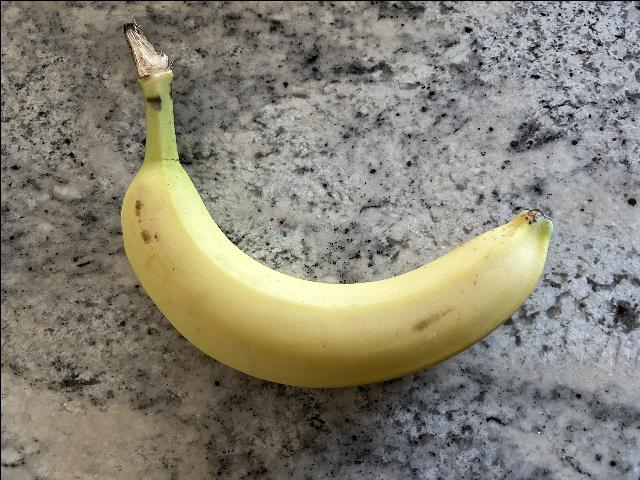Bananas: (118, 20, 550, 386)
